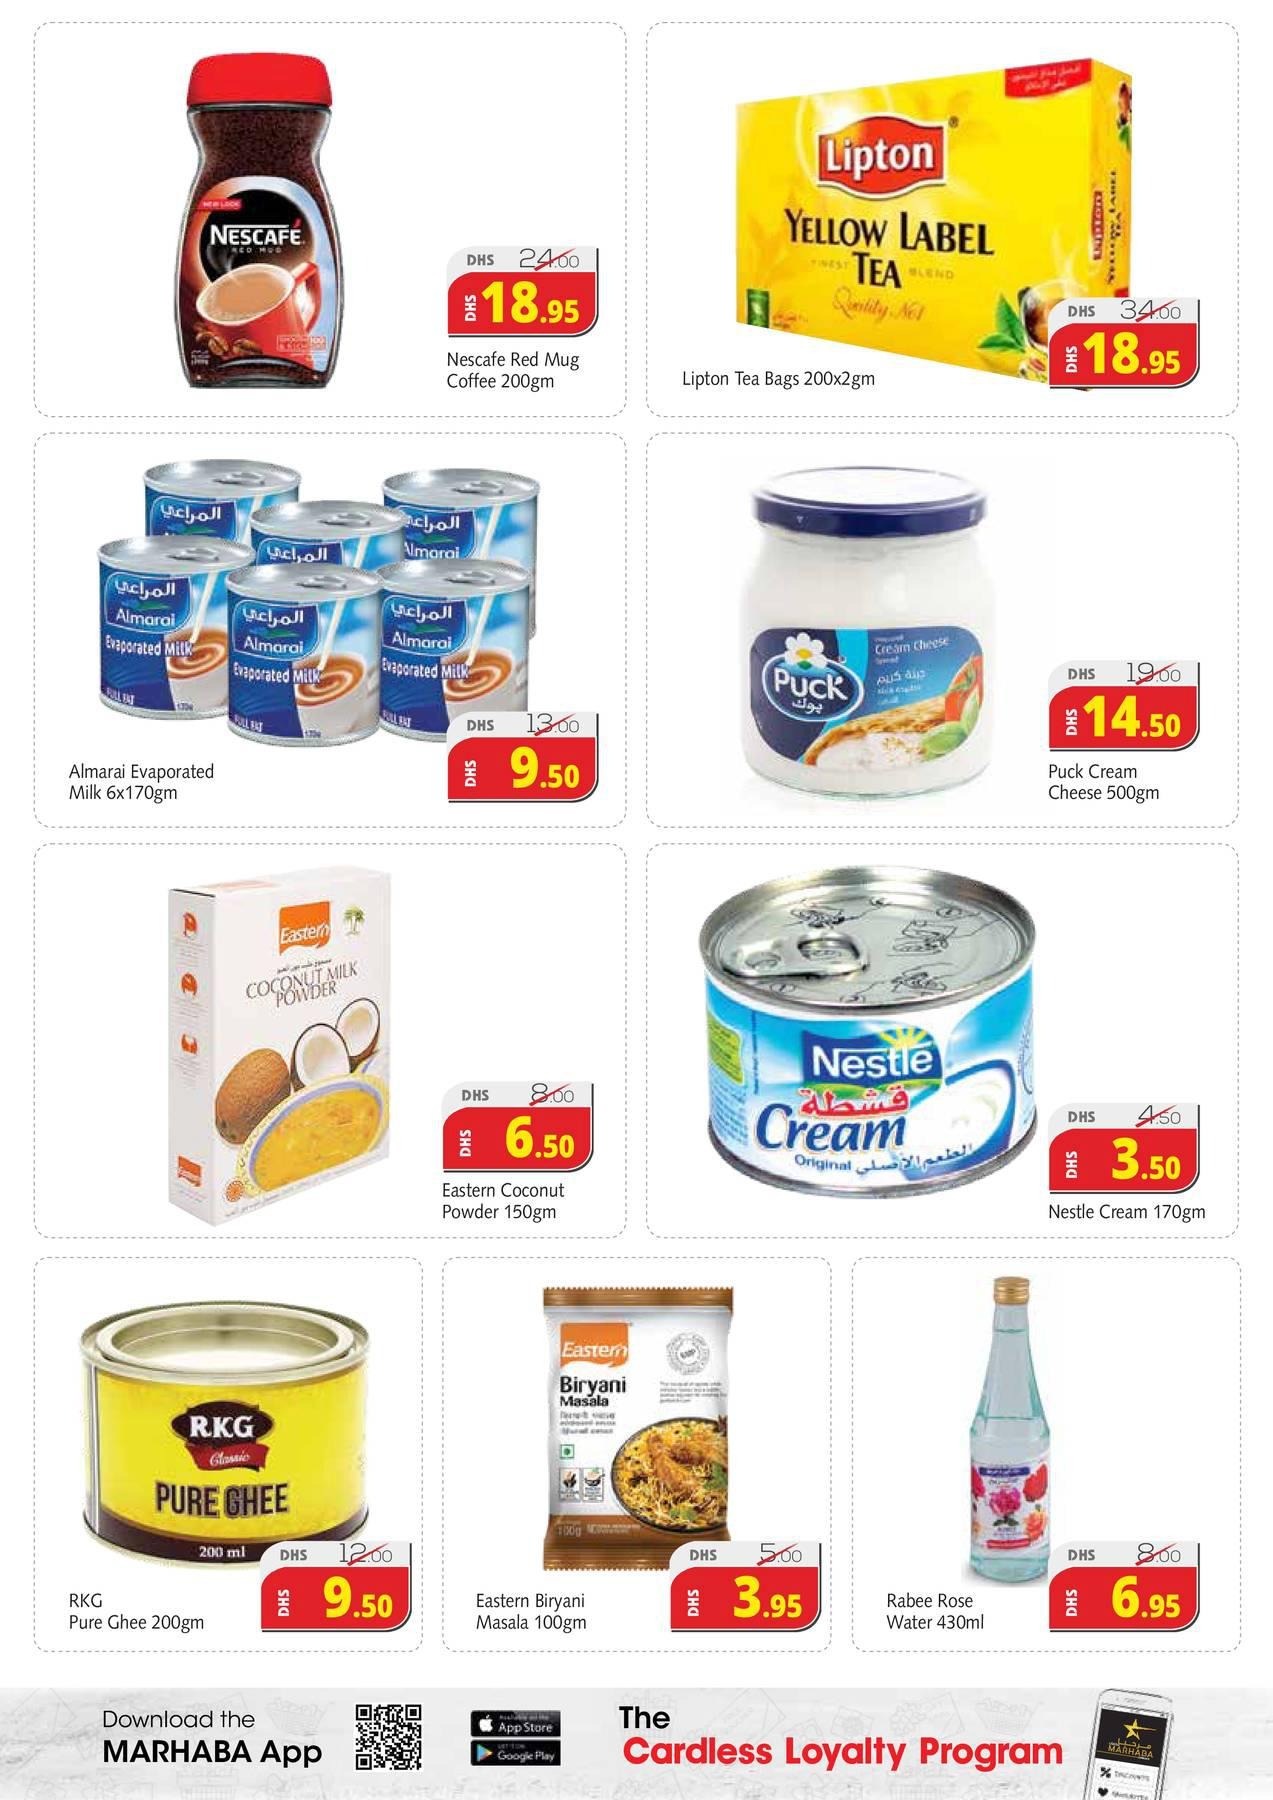text: (675, 359, 891, 402), (63, 1582, 215, 1643), (63, 757, 223, 813), (441, 344, 590, 401), (467, 1584, 601, 1642), (873, 1584, 1000, 1643), (438, 1178, 576, 1228), (1042, 757, 1168, 810), (1042, 1197, 1219, 1231)
